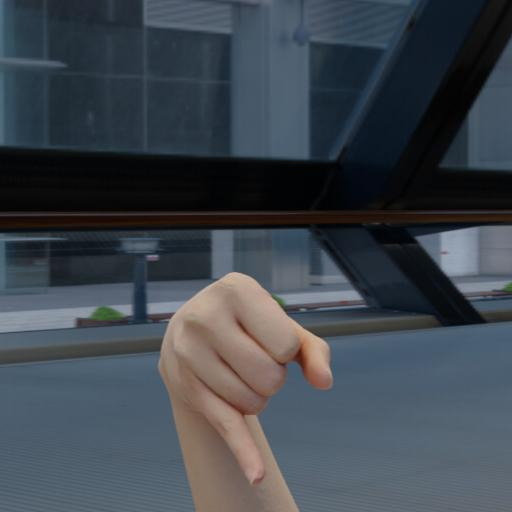J: (144, 252, 358, 490)
